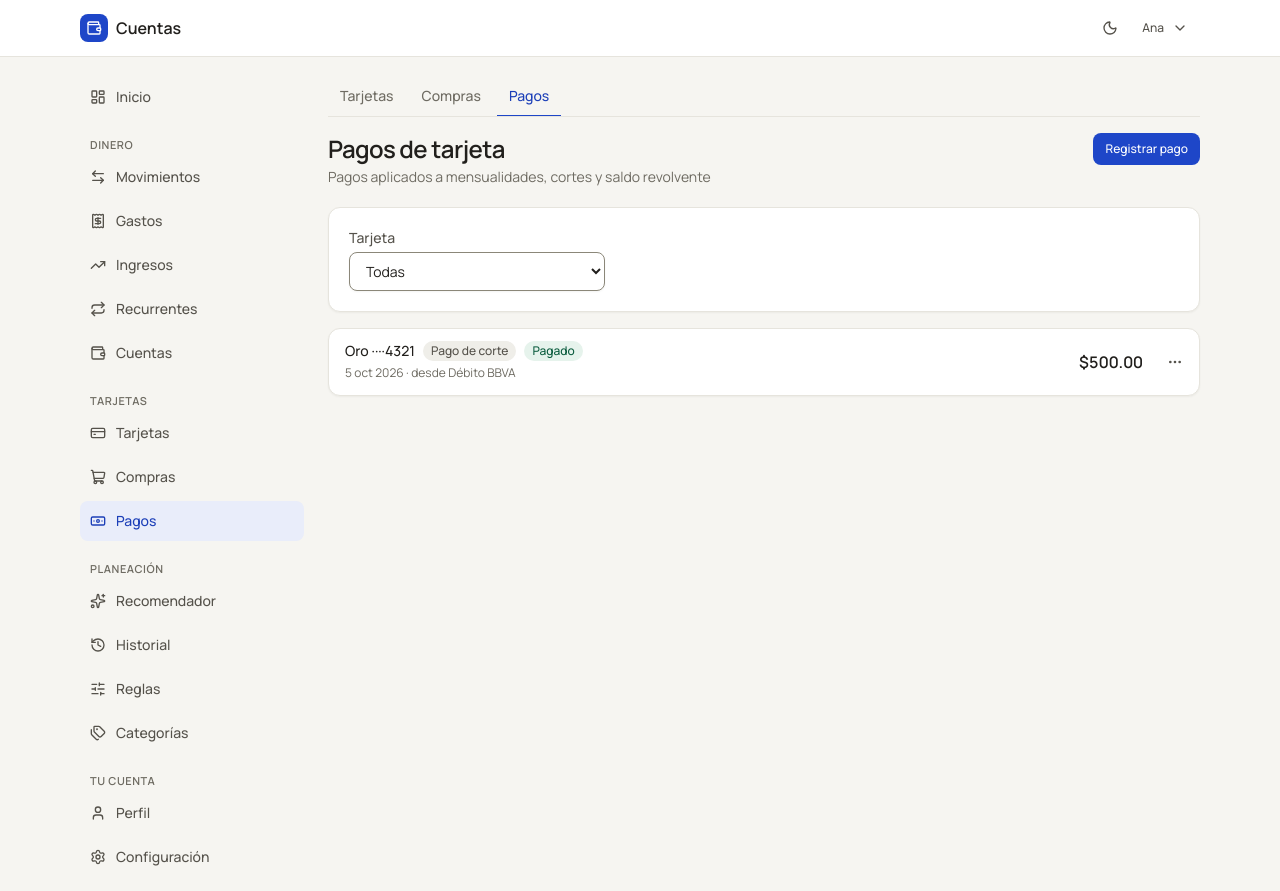
pagos de tarjeta › registra un pago y muestra su aplicación
The image size is (1280, 891).
Click the button "Registrar pago" at (1147, 149), box [1094, 133, 1200, 165]
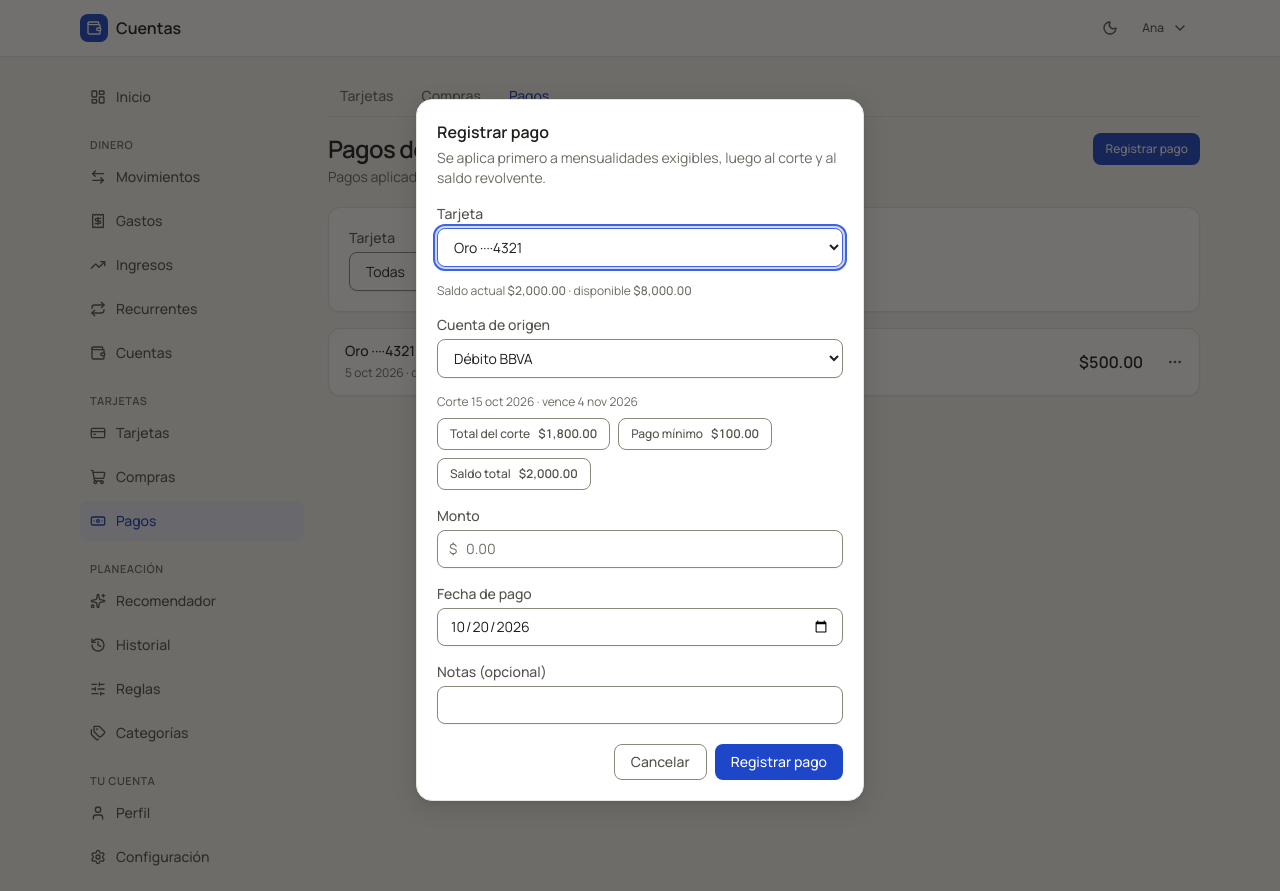
Type "500" into the field labelled "Monto" at (640, 549), box [437, 530, 843, 568]
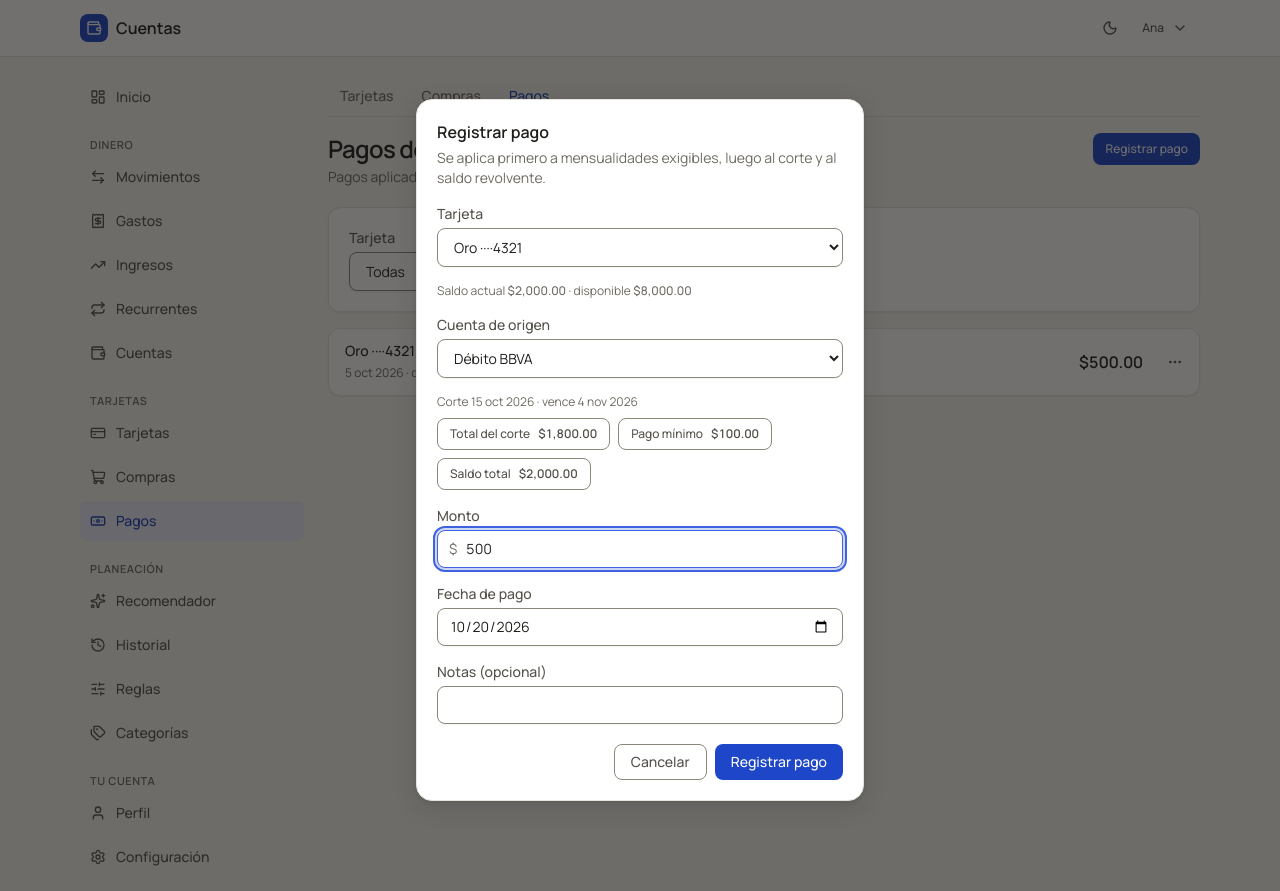
Click the button "Registrar pago" at (779, 762), box [715, 744, 843, 780]
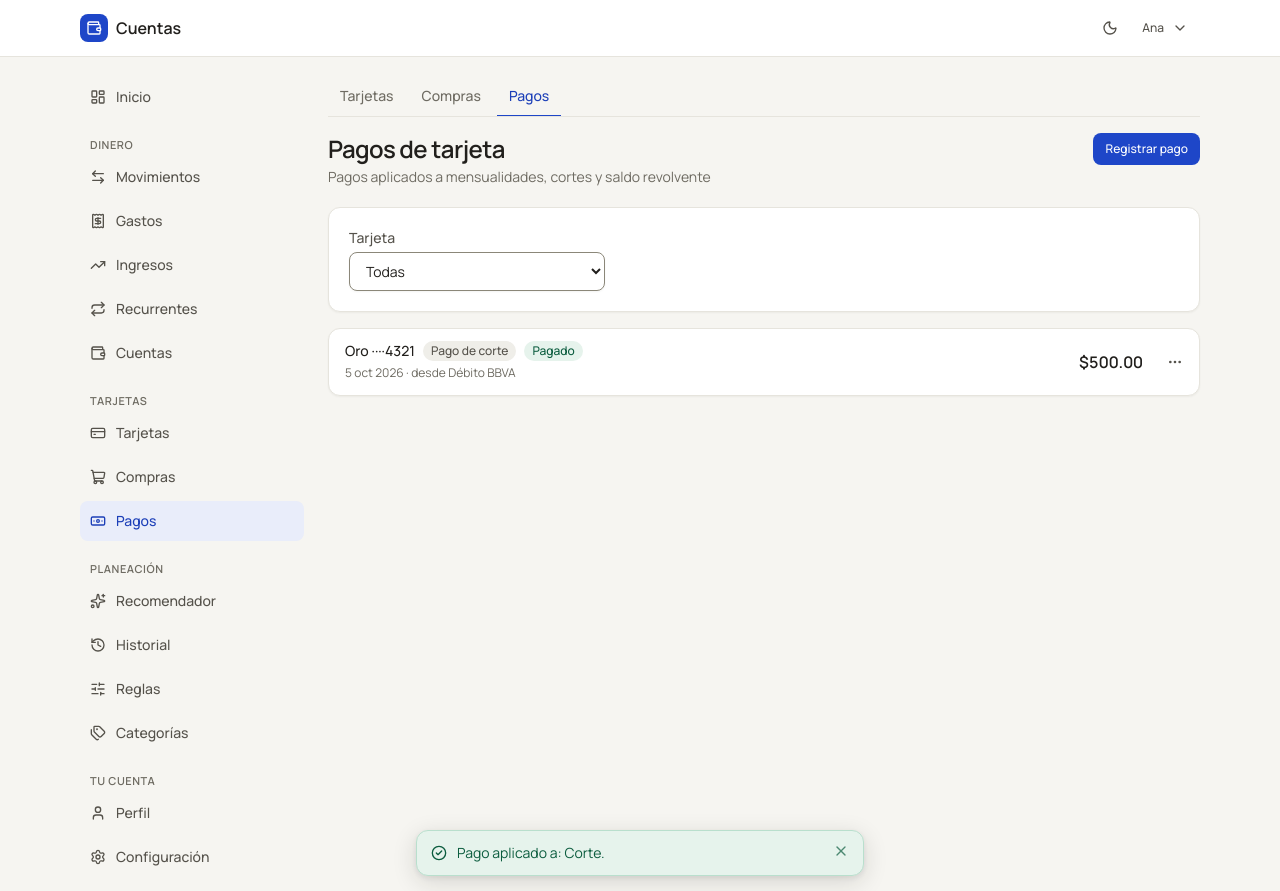
Check: the text "Pago aplicado a: Corte." is shown, box [457, 843, 605, 862]
